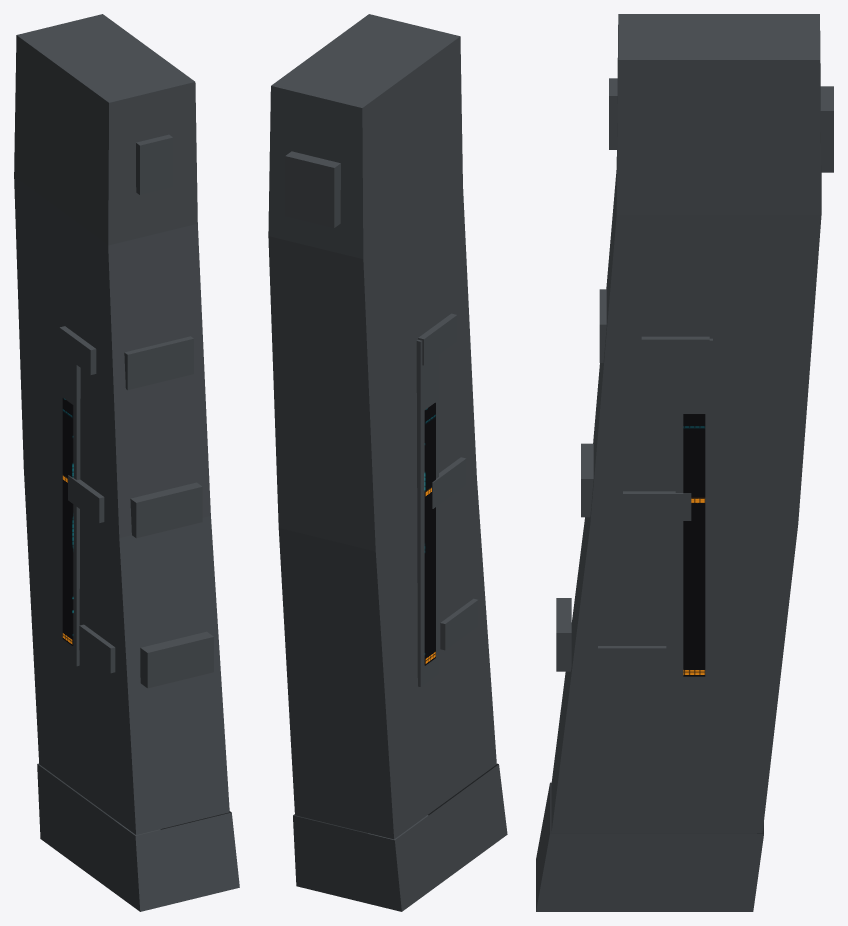
Rendered from WEP_MOD_02_MAG.glb.
3 views of the same model, side by side, from view 1: azimuth 30°, elevation 25°; view 2: azimuth 150°, elevation 25°; view 3: azimuth 270°, elevation 25° (orthographic). The views are drawn at different scales.
Visible parts, largest first — view 1: SM_WEP_MOD_02_MAG; view 2: SM_WEP_MOD_02_MAG; view 3: SM_WEP_MOD_02_MAG.
Part boxes in pixels (x1,y1,x2,y2): SM_WEP_MOD_02_MAG: [14, 14, 239, 911]; SM_WEP_MOD_02_MAG: [268, 14, 507, 911]; SM_WEP_MOD_02_MAG: [536, 14, 833, 911].
Size of the model in its own units: 0.03 by 0.22 by 0.07.
2 materials, 1 textured.
